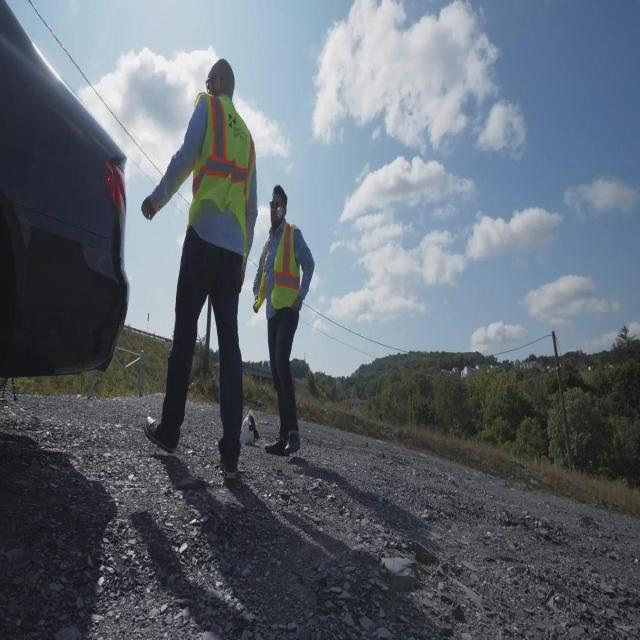Vest: (186, 90, 256, 262), (254, 220, 302, 308)
